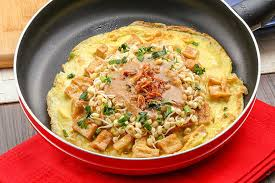Tahu telor: (46, 21, 248, 158)
